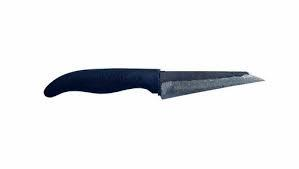Knife: (43, 67, 265, 99)
